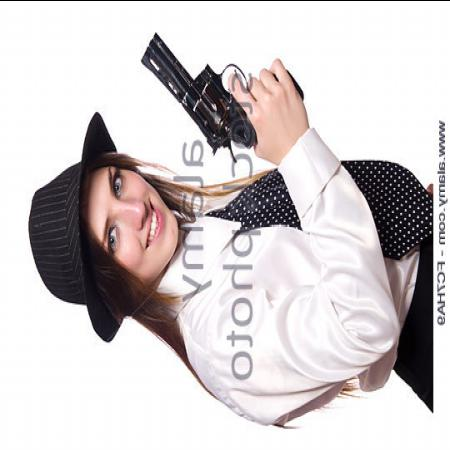Pistol: (140, 23, 306, 165)
